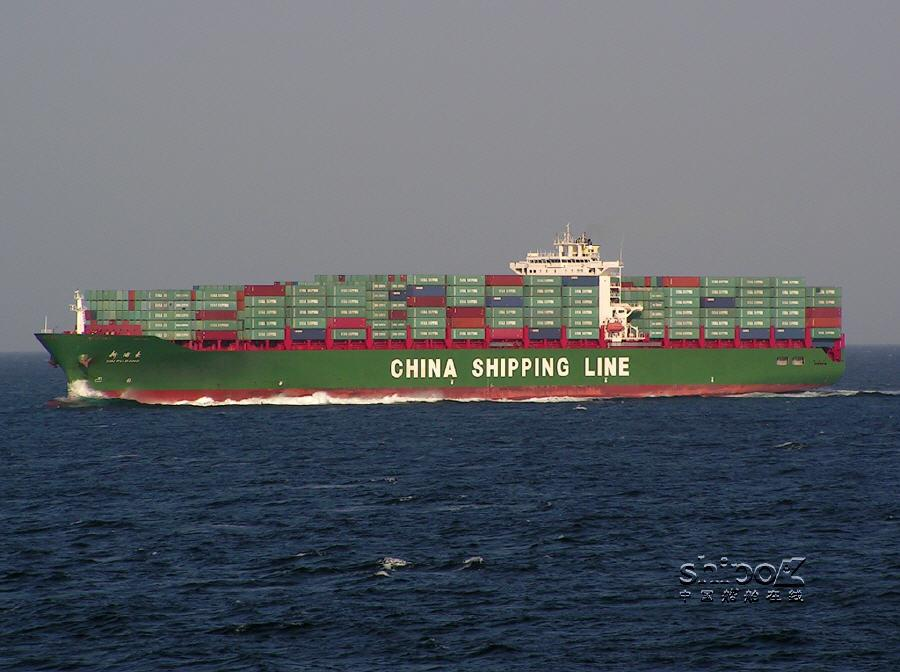Cargoship: (29, 230, 851, 403)
